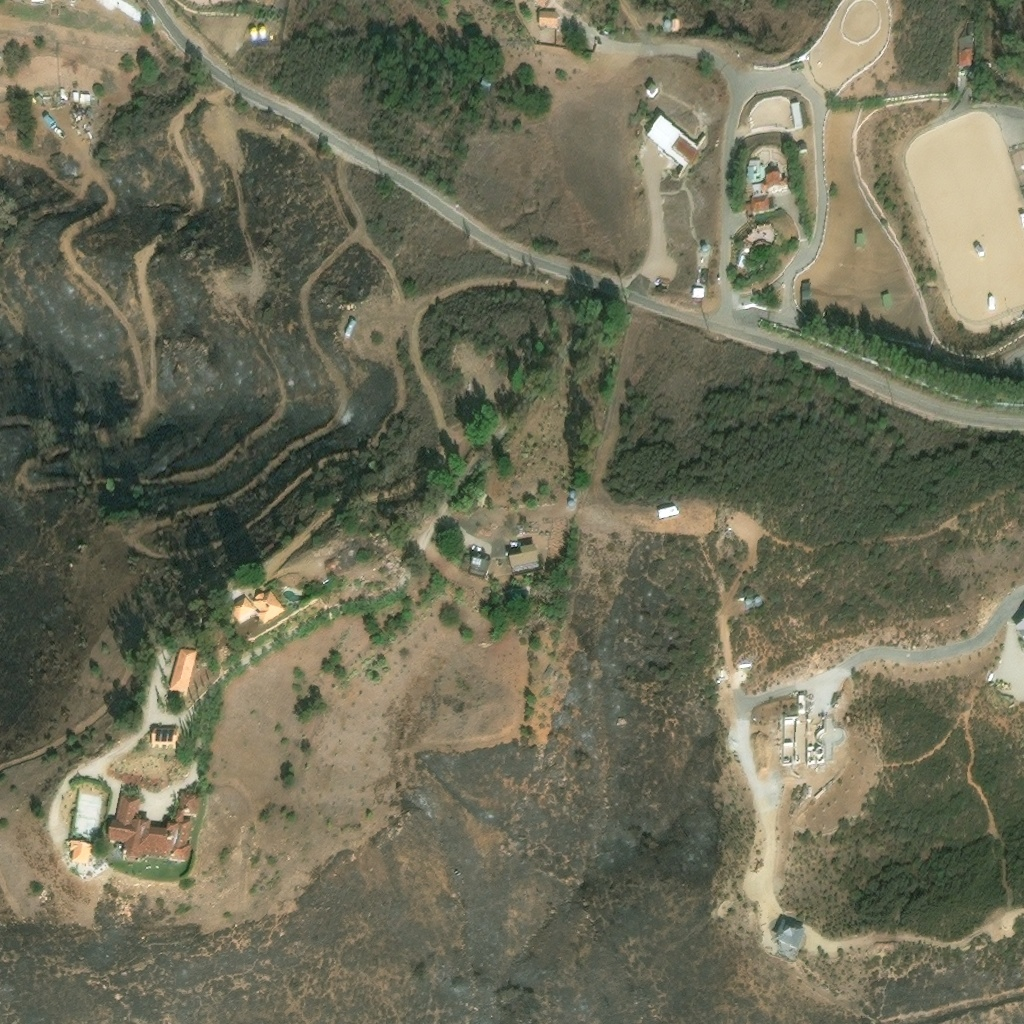0 no-damage: (107, 794, 200, 865), (647, 116, 701, 168), (228, 592, 283, 629), (168, 649, 196, 697), (771, 920, 806, 952), (459, 552, 490, 579), (508, 547, 537, 571), (67, 843, 91, 866), (958, 40, 974, 69), (654, 506, 679, 522), (760, 175, 785, 190), (791, 104, 804, 132), (747, 160, 764, 181), (538, 13, 557, 31), (800, 284, 811, 309), (522, 0, 549, 10), (752, 197, 769, 212), (882, 295, 893, 310), (958, 72, 967, 90), (646, 82, 658, 95), (690, 289, 704, 300), (742, 599, 754, 611), (81, 92, 91, 106), (856, 235, 864, 250), (752, 598, 762, 609), (59, 88, 69, 99), (737, 664, 751, 670), (663, 21, 670, 33), (257, 29, 266, 38), (672, 21, 679, 32), (567, 501, 574, 510), (73, 90, 79, 100), (250, 31, 257, 39), (569, 493, 575, 501)
3 destroyed: (653, 275, 670, 288), (696, 269, 709, 285)
4 un-classified: (843, 53, 855, 66)
